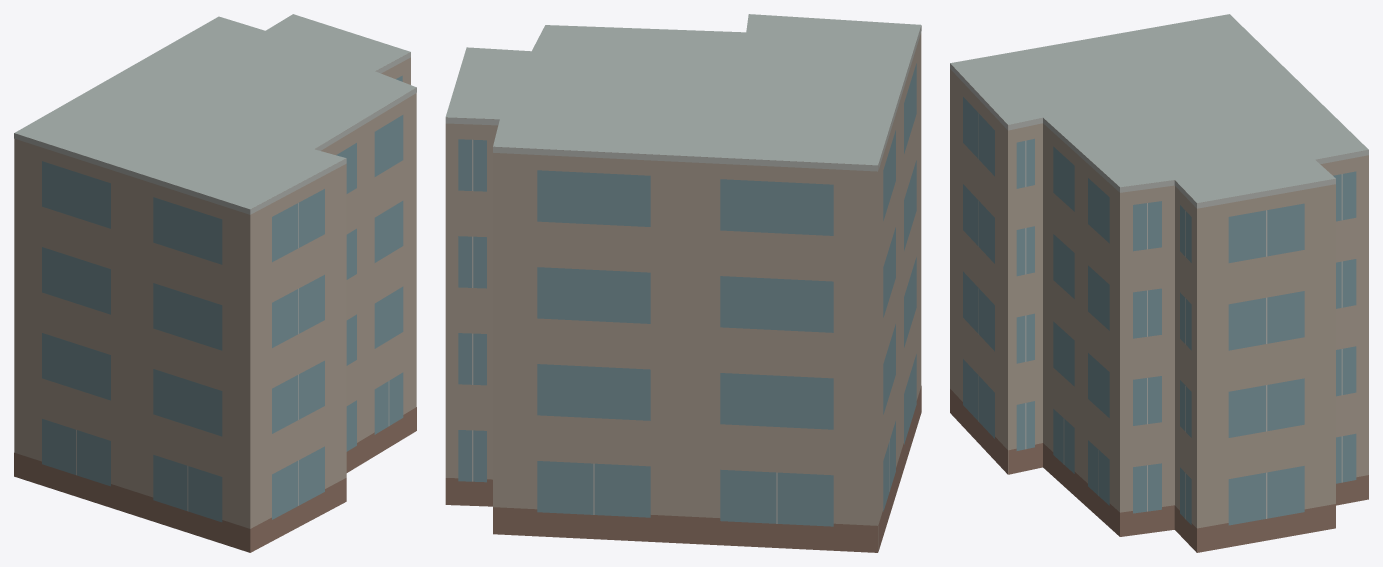
Rendered from survey-upis-32947055.glb.
3 renders of one model, left to right at view 1: azimuth 30°, elevation 25°; view 2: azimuth 150°, elevation 25°; view 3: azimuth 270°, elevation 25°, orthographic. The views are drawn at different scales.
Parts seen in each view (by area): view 1: survey-upis-32947055.tmp; view 2: survey-upis-32947055.tmp; view 3: survey-upis-32947055.tmp.
Boxes of the visible parts, box(x1,y1,x2,y2) form: survey-upis-32947055.tmp: box(14, 14, 416, 552); survey-upis-32947055.tmp: box(445, 14, 921, 552); survey-upis-32947055.tmp: box(950, 14, 1368, 552).
Bounding box in the file's own units: 17.89 × 15.41 × 16.73.
